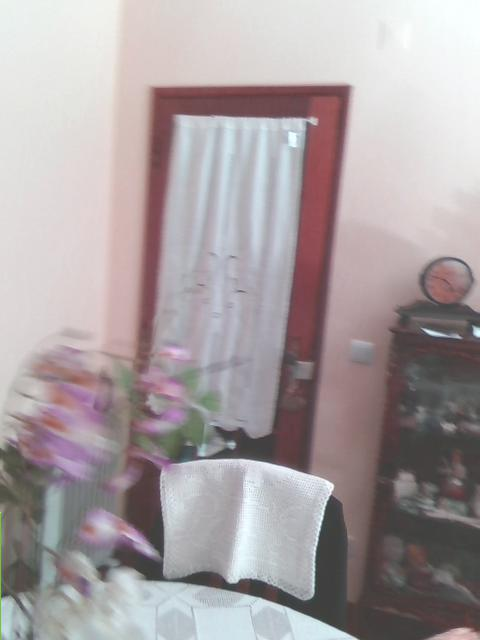closed_door: (128, 83, 353, 536)
